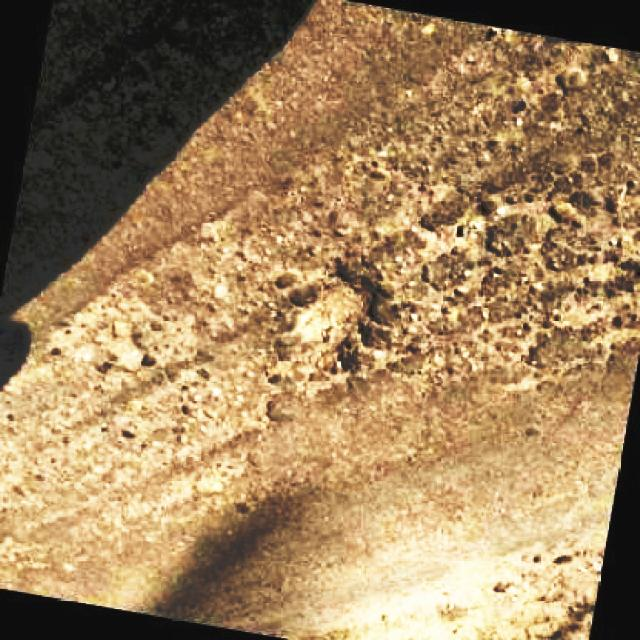pothole: (411, 190, 612, 288), (271, 264, 394, 388), (88, 306, 188, 383)
